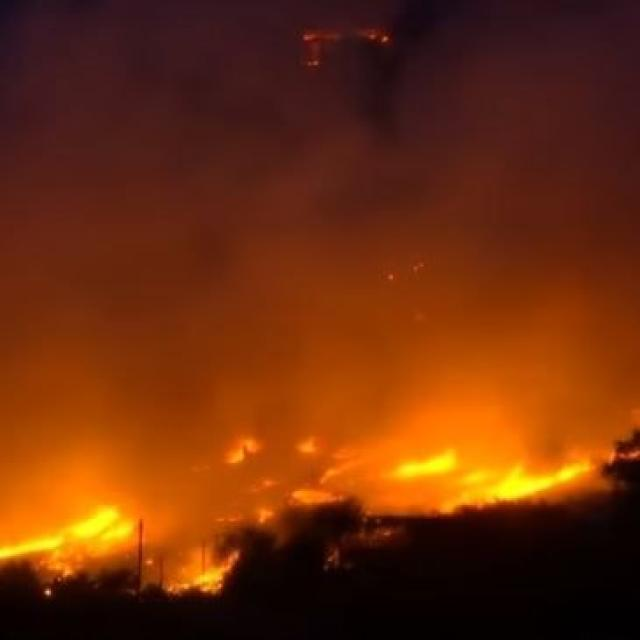Fire: (0, 499, 145, 575), (450, 462, 600, 524), (168, 552, 247, 598), (391, 444, 460, 483), (288, 479, 351, 511), (221, 425, 268, 467), (293, 435, 321, 458), (250, 498, 273, 519)
Smoke: (9, 2, 604, 498)
